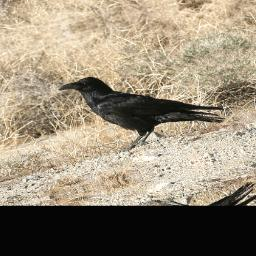Crow: (55, 50, 232, 159)
